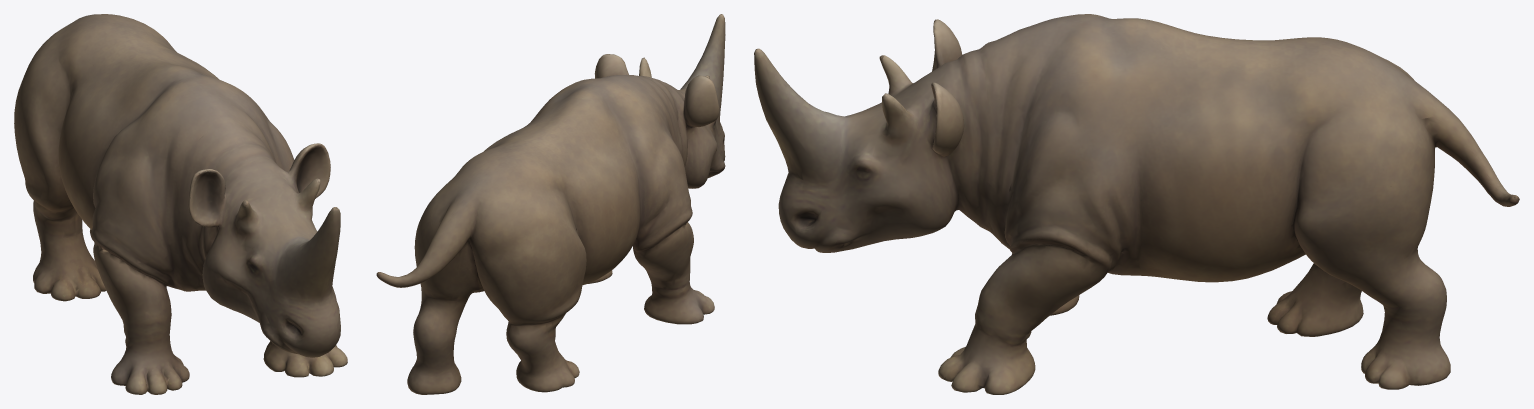
The picture shows the model from 3 angles, left to right: view 1: azimuth 30°, elevation 25°; view 2: azimuth 150°, elevation 25°; view 3: azimuth 270°, elevation 25°; orthographic projection. The views are drawn at different scales.
Parts seen in each view (by area): view 1: world; view 2: world; view 3: world.
Part boxes in pixels (x1,y1,x2,y2): world: (14, 14, 347, 394); world: (376, 14, 725, 394); world: (754, 14, 1519, 394).
Size of the model in its own units: 1.23 by 1.56 by 3.4.
1 material, 1 textured.
